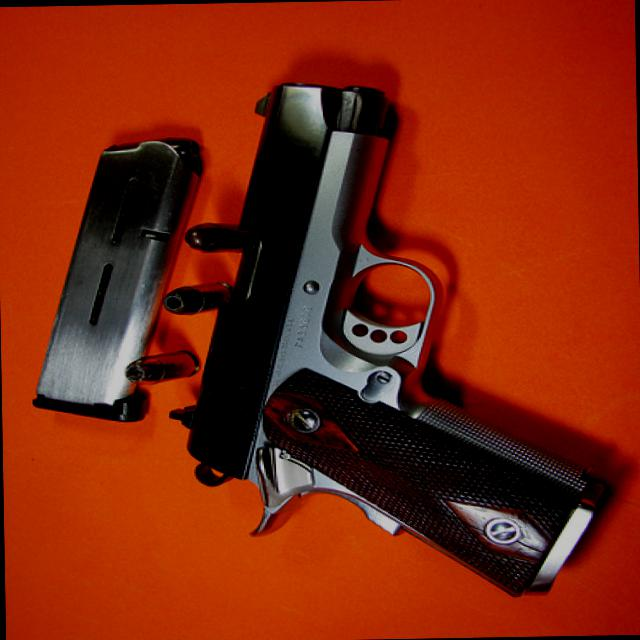handgun: (160, 76, 599, 607)
